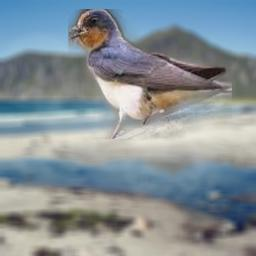Swallow: (68, 9, 232, 139)
